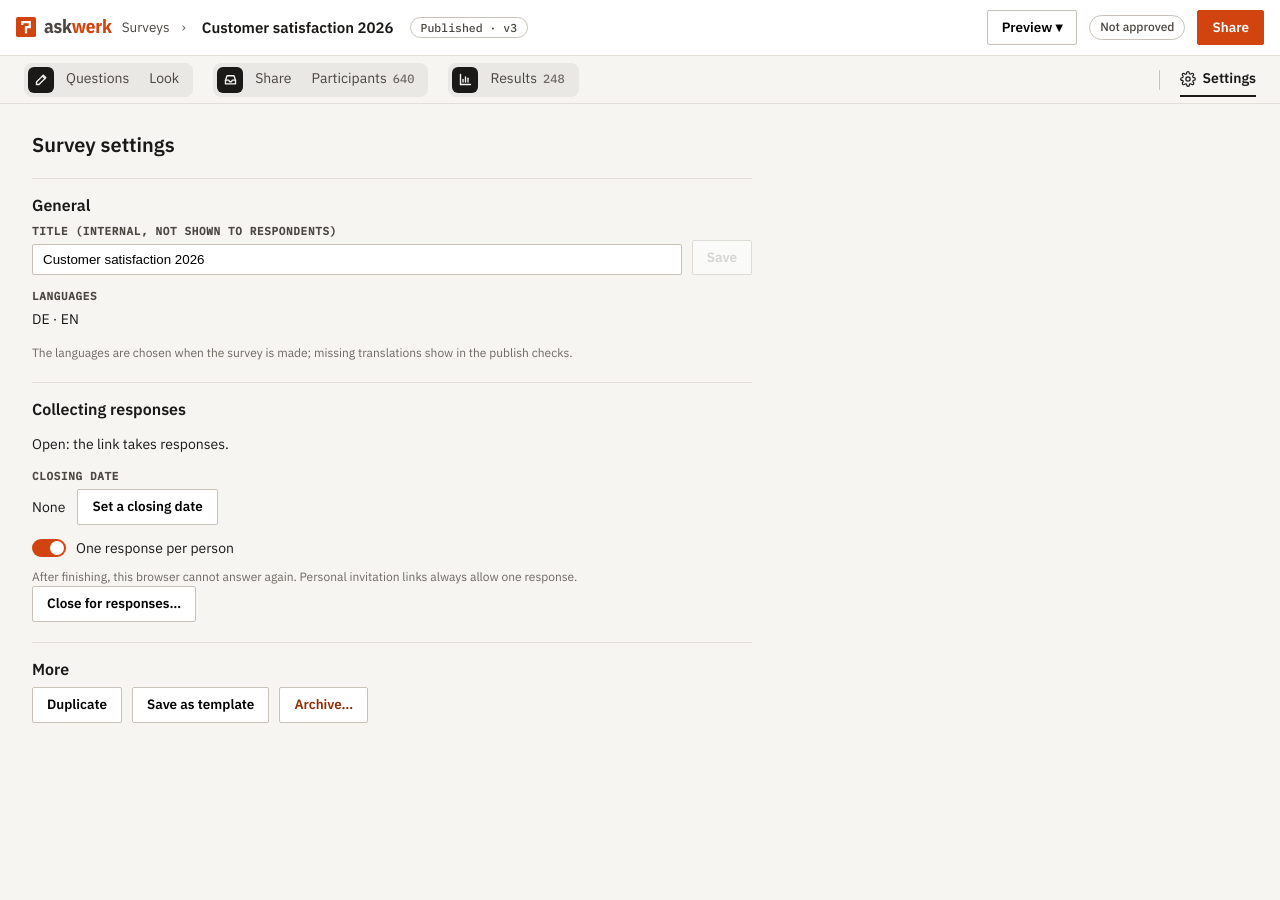
Test: Collecting responses: closing date and one response per person (W24) › explains a closing date in the past at the field (A2)
This screenshot has width=1280, height=900.
Expected: the heading "Survey settings" is shown, [32,131,175,158]
Click the button "Set a closing date": (148, 507) [77,490,218,525]
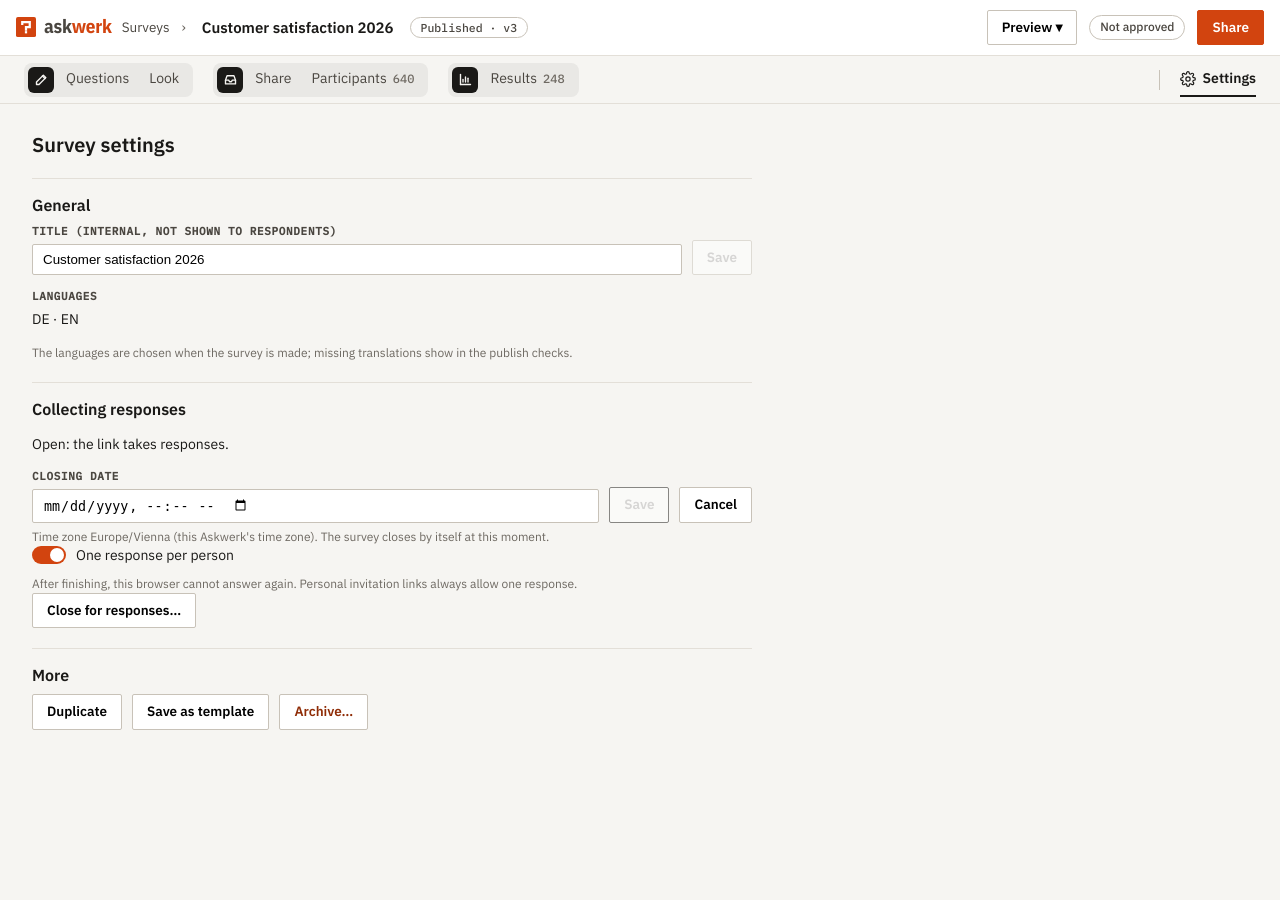
In the field labelled "Closing date": (316, 506) [32,490,599,523], type "2001-01-01T00:00"
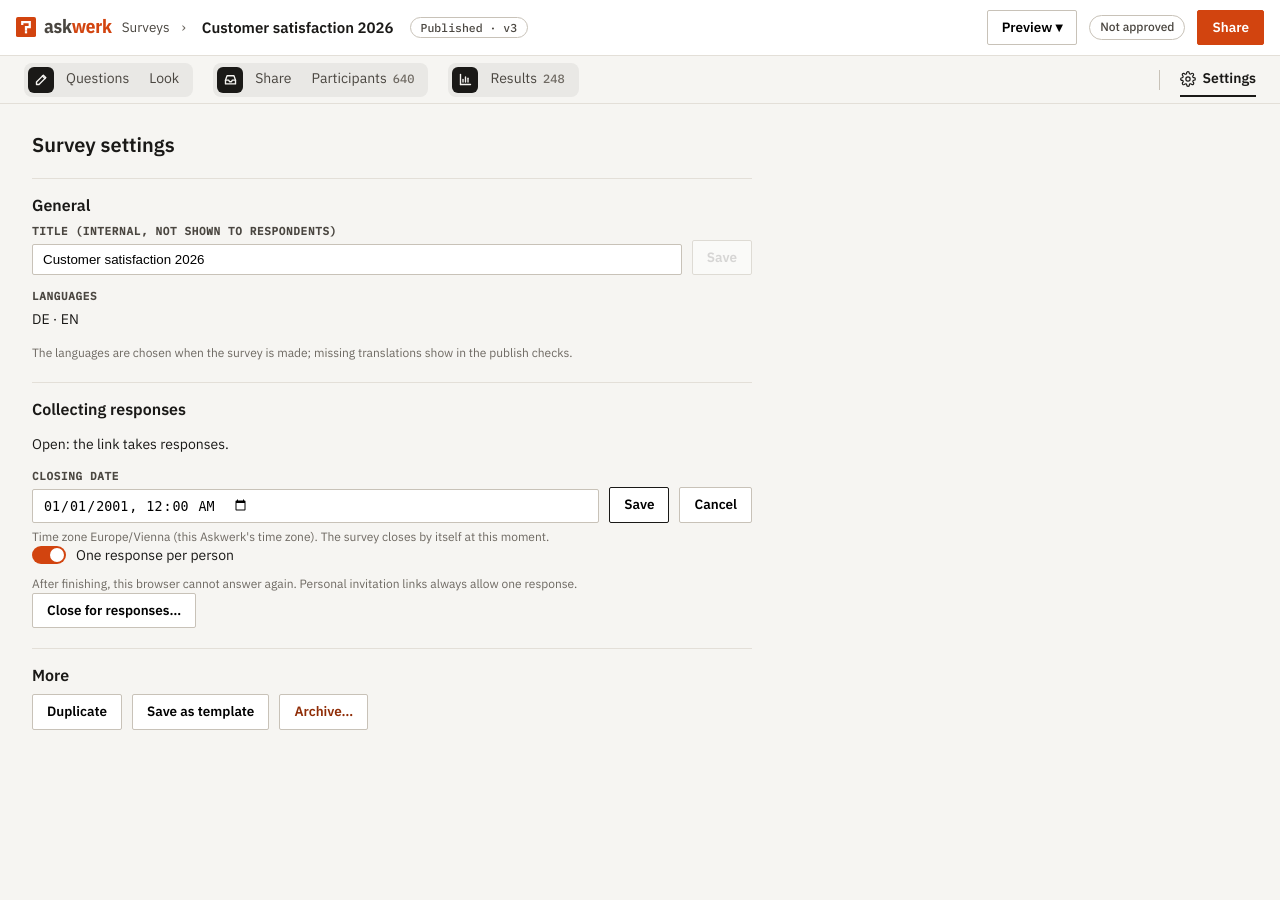
Click the button with aria-label "Save closing date": (639, 505) [609,487,670,523]
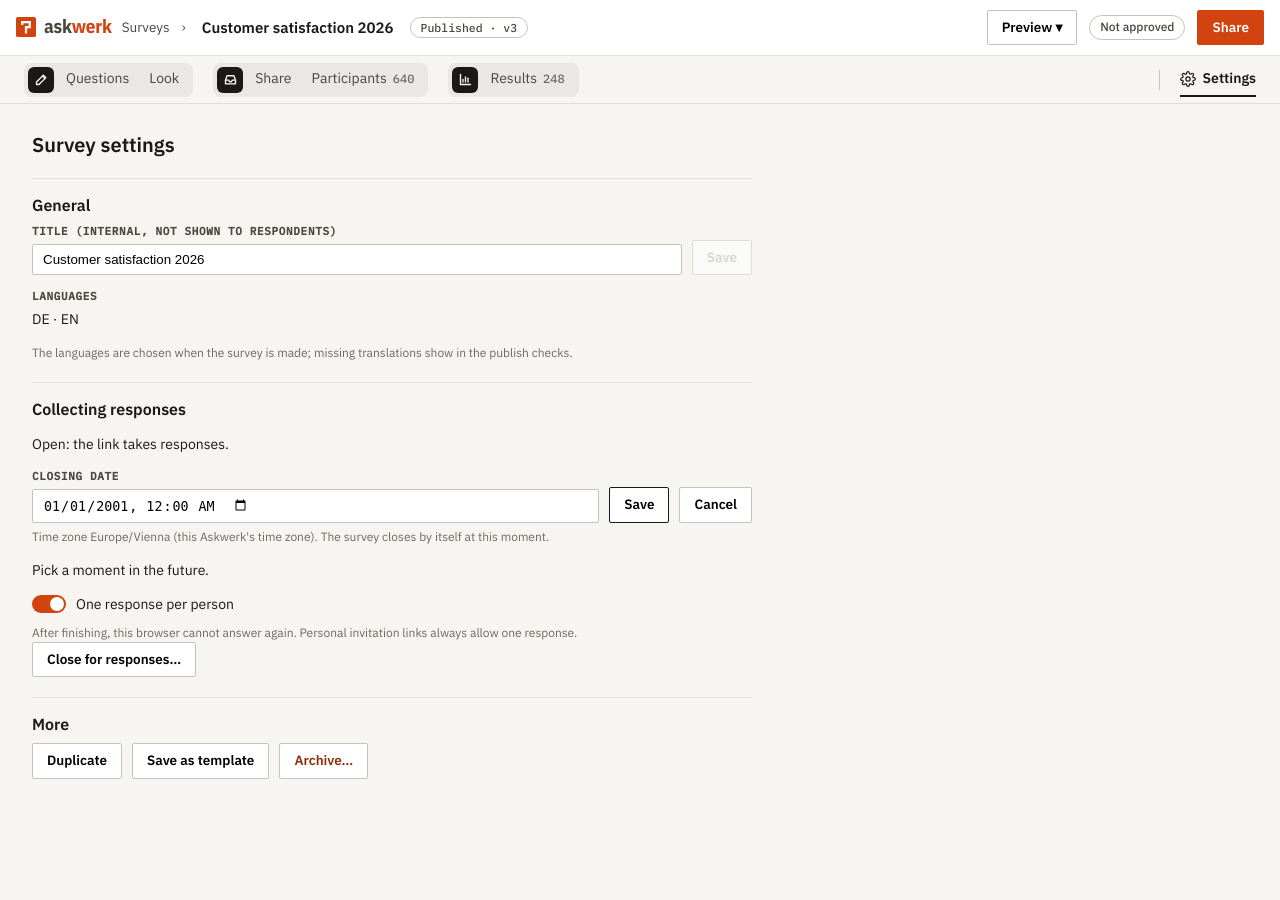
Result: the message reads "Pick a moment in the future." at [32,561,209,579]
